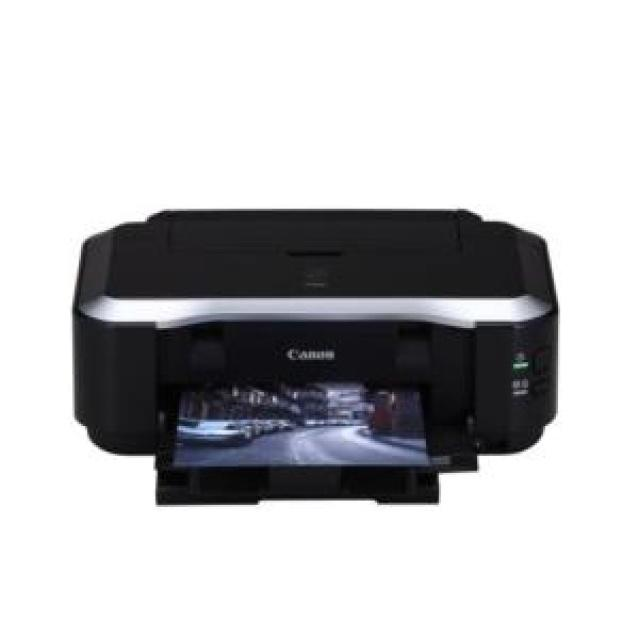Printer: (71, 207, 559, 505)
